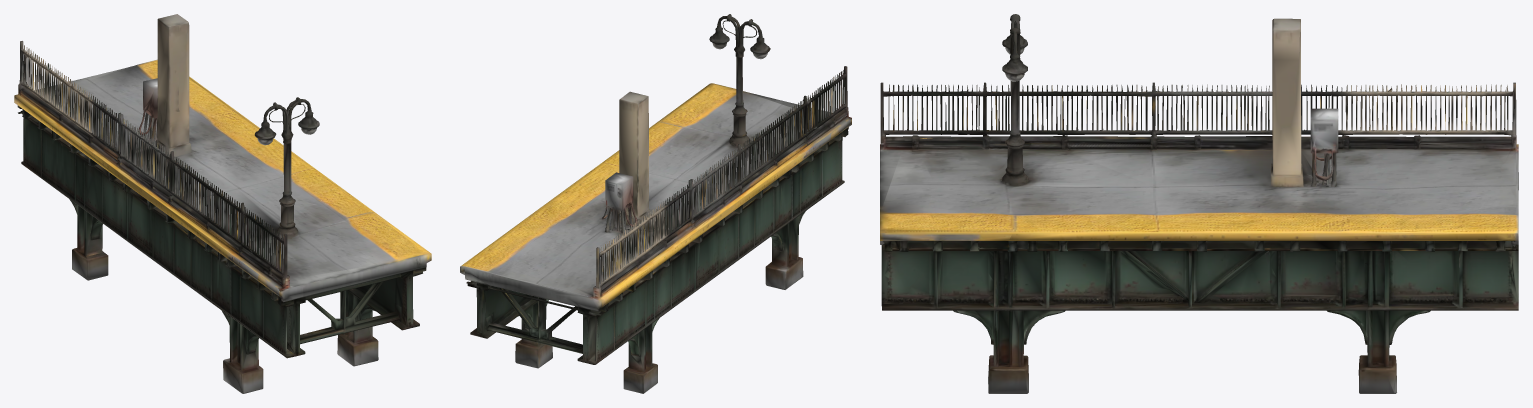
Rendered from platform_open.glb.
The picture shows the model from 3 angles, left to right: view 1: azimuth 30°, elevation 25°; view 2: azimuth 150°, elevation 25°; view 3: azimuth 270°, elevation 25°; orthographic projection. The views are drawn at different scales.
Parts seen in each view (by area): view 1: node_0; view 2: node_0; view 3: node_0.
Boxes of the visible parts, <box> form: node_0: <box>14,14,431,393</box>; node_0: <box>460,14,851,393</box>; node_0: <box>880,14,1518,393</box>.
Size of the model in its own units: 0.3656 by 0.6285 by 1.11.
1 material, 1 textured.
